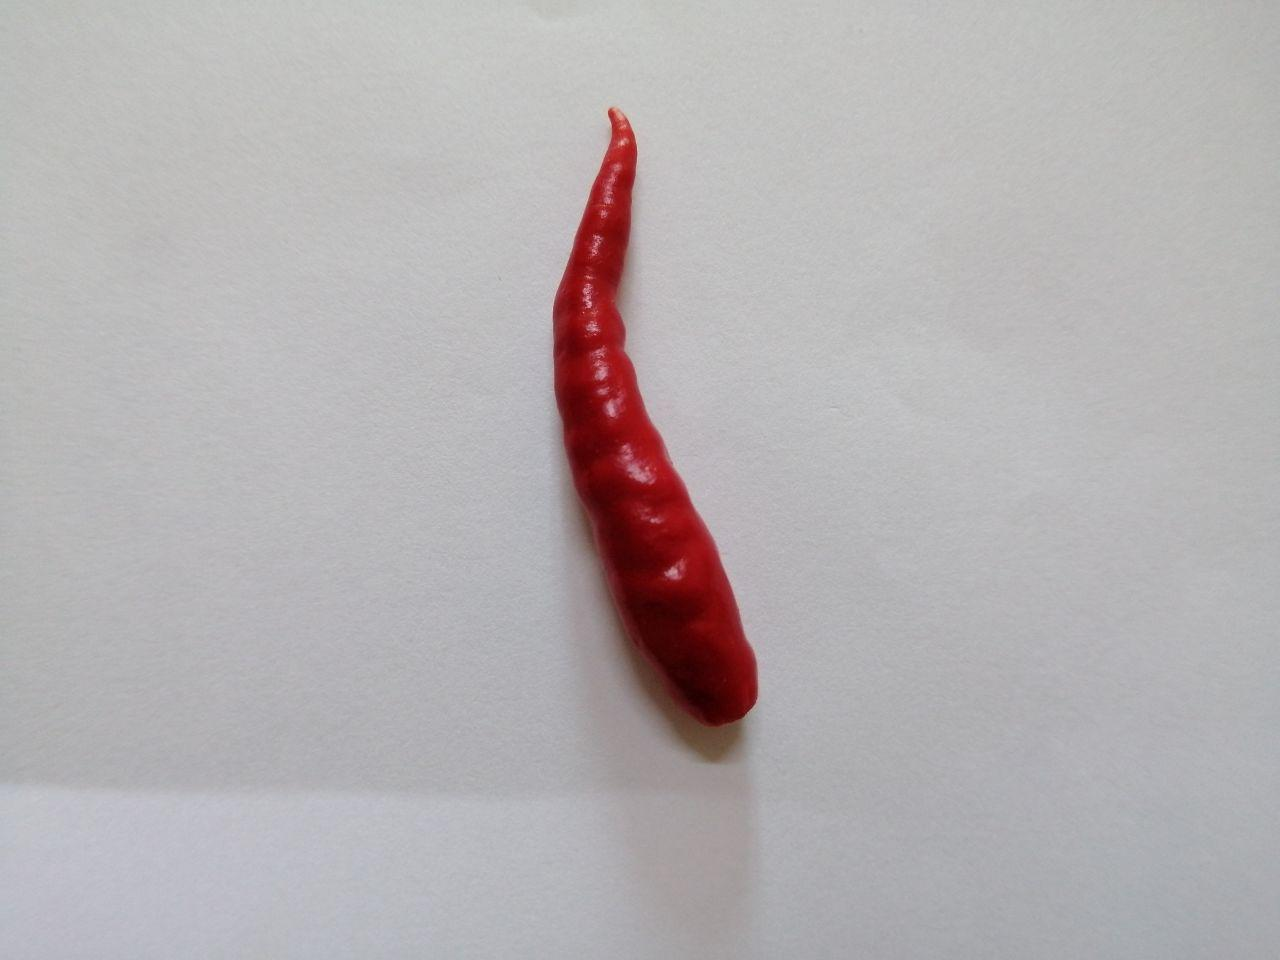lada merah: (510, 96, 787, 758)
